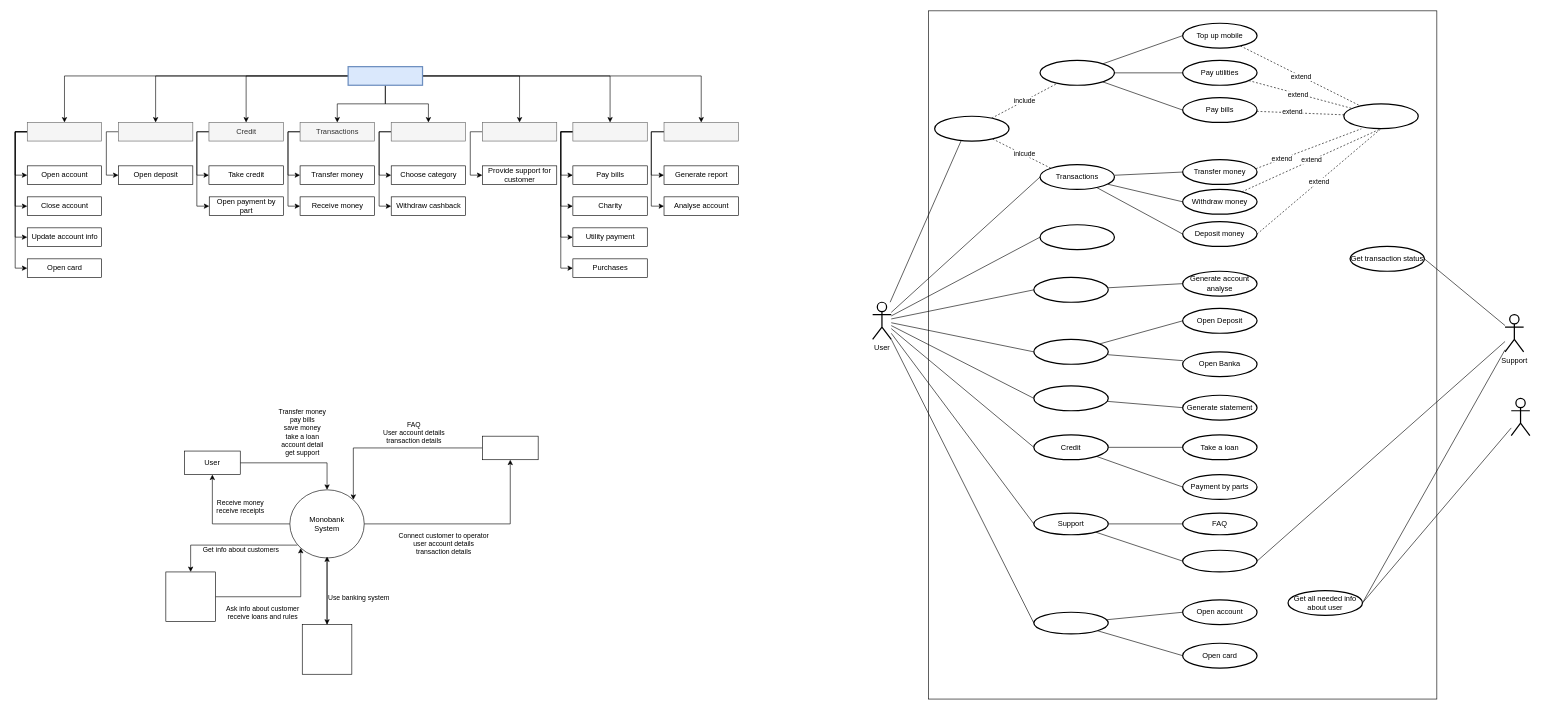
This 1549x710 diagram has some shape labels left out. The box of each missing label's shape, as (x1, y1, x2, y2) in pixels:
Account: (1033, 611, 1109, 634)
Account Management: (27, 122, 102, 141)
Analyze account: (1033, 277, 1109, 303)
Bill payment: (572, 122, 647, 141)
Bills: (1039, 60, 1115, 86)
Call center: (482, 436, 538, 460)
Cashback: (391, 122, 466, 141)
Check balance: (1039, 224, 1115, 250)
Customer service: (482, 122, 557, 141)
Deposit / Credit: (118, 122, 193, 141)
Documents: (1033, 385, 1109, 411)
Get receipt: (1343, 103, 1419, 129)
Get Support: (1182, 549, 1257, 572)
Monobank: (347, 66, 423, 86)
NBU: (165, 571, 215, 622)
Regulation: (1510, 397, 1530, 436)
Reporting: (663, 122, 738, 141)
Savings: (1033, 339, 1109, 365)
Universal Bank: (302, 624, 352, 674)
Use credit money: (934, 115, 1009, 141)
